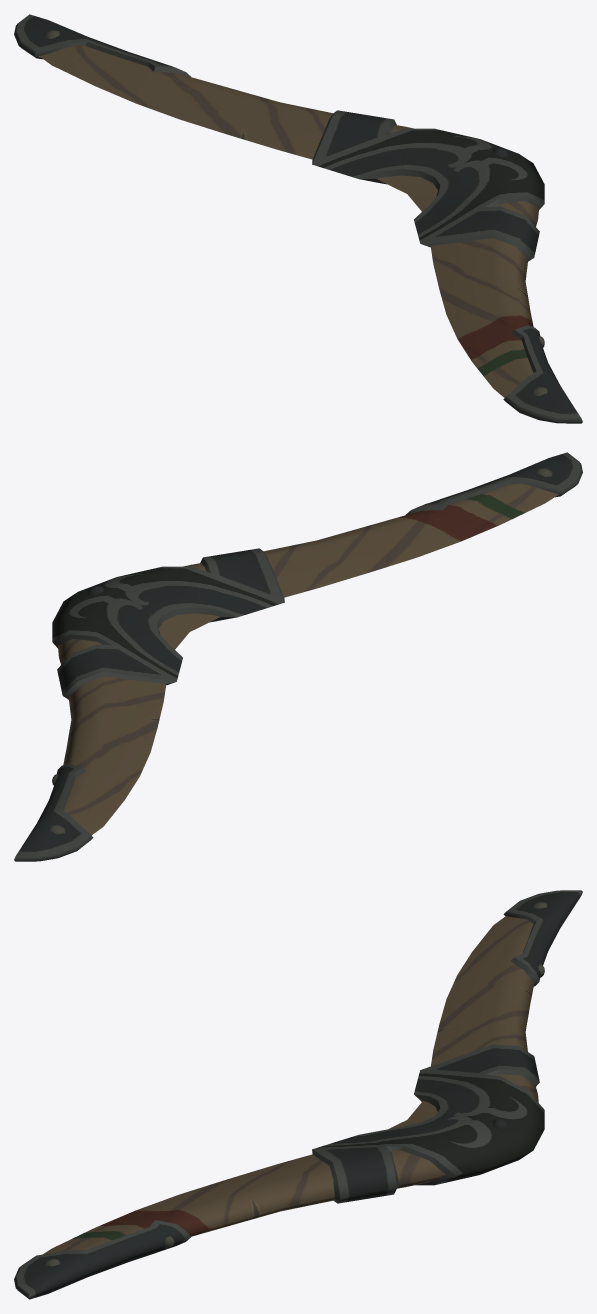
File: Weapon_Sword_051.glb
3 views of the same model, one above another, from view 1: azimuth 30°, elevation 25°; view 2: azimuth 150°, elevation 25°; view 3: azimuth 330°, elevation 25° (orthographic).
Visible parts, largest first — view 1: Weapon_Sword_051; view 2: Weapon_Sword_051; view 3: Weapon_Sword_051.
Boxes of the visible parts, box(x1,y1,x2,y2) form: Weapon_Sword_051: box(14, 14, 582, 423); Weapon_Sword_051: box(14, 452, 582, 861); Weapon_Sword_051: box(14, 890, 582, 1299).
Bounding box in the file's own units: 0.2527 × 0.0411 × 0.9142.
Materials: 1 (1 with a texture image).
